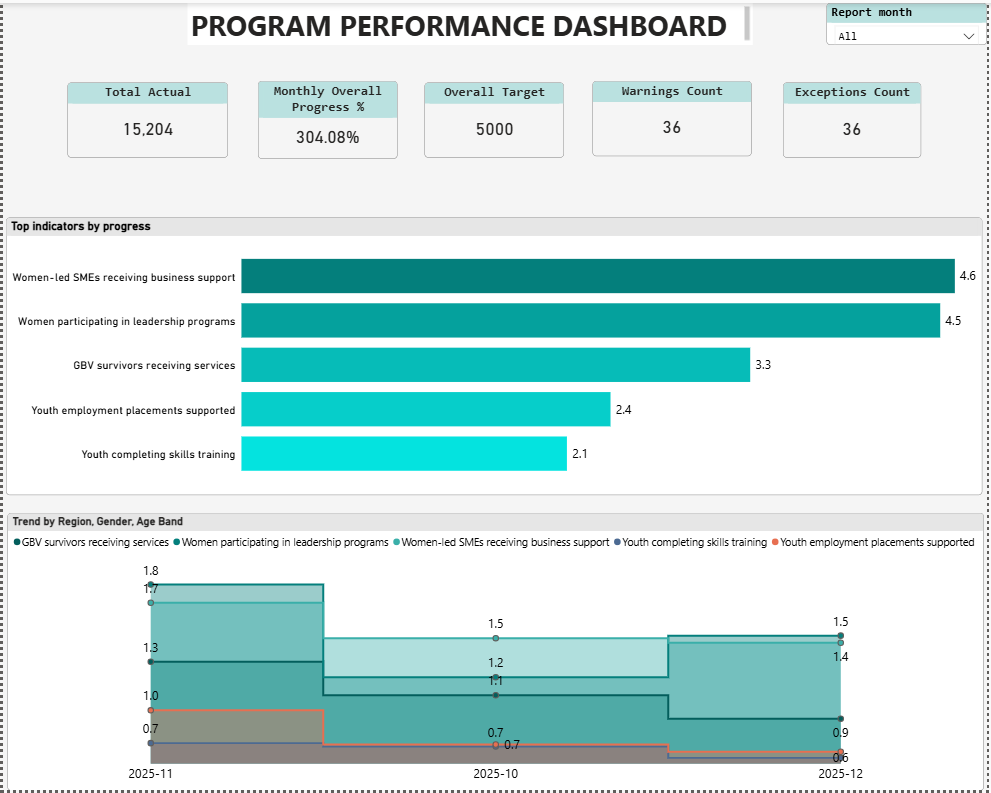

The dashboard page shown, as its layout file describes it:
{"tool":"powerbi","page":{"name":"Executive Overview","canvas":[1500,1200],"ordinal":0},"visuals":[{"type":"card","title":"Total Actual","fields":{"Values":["DimMonth.Total Actual"]},"box":[99.1,122,244.7,114.4],"z":0},{"type":"card","title":"Monthly Overall Progress %","fields":{"Values":["DimMonth.Monthly Overall Progress %"]},"box":[389.6,119.7,212.7,118.9],"z":1000},{"type":"slicer","title":"Report month","fields":{"Values":["DimMonth.ReportMonthDate"]},"box":[1255.7,0,244.7,64],"z":2000},{"type":"card","title":"Exceptions Count","fields":{"Values":["DimMonth.Exceptions Count"]},"box":[1190.1,122,210.4,114.4],"z":4000},{"type":"card","title":"Overall Target","fields":{"Values":["DimMonth.Overall Target"]},"box":[643.5,122,212.7,114.4],"z":5000},{"type":"card","title":"Warnings Count","fields":{"Values":["DimMonth.Warnings Count"]},"box":[899.6,119.7,242.4,114.4],"z":6000},{"type":"clusteredBarChart","title":"Top indicators by progress","fields":{"Category":["vw_indicator_trend_national.indicator_name"],"Y":["Sum(vw_indicator_trend_national.progress_to_target)"]},"box":[4.6,327.1,1489,423.1],"z":7000},{"type":"lineChart","title":"Trend by Region, Gender, Age Band","fields":{"Y":["Sum(vw_indicator_trend_national.progress_to_target)"],"Series":["vw_indicator_trend_national.indicator_name"],"Category":["vw_indicator_trend_national.report_month"]},"box":[6.9,776.9,1489,423.1],"z":8000},{"type":"textbox","box":[281.3,0,862.3,64],"z":8001}]}

Visuals, with their boxes in screenshot pixels (x1, y1, x2, y2), scaled from the page's 1500x1200 canvas onto the 991x793 screenshot:
"Total Actual" card: (left=65, top=81, right=227, bottom=156)
"Monthly Overall Progress %" card: (left=257, top=79, right=398, bottom=158)
"Report month" slicer: (left=830, top=0, right=990, bottom=42)
"Exceptions Count" card: (left=786, top=81, right=925, bottom=156)
"Overall Target" card: (left=425, top=81, right=566, bottom=156)
"Warnings Count" card: (left=594, top=79, right=754, bottom=155)
"Top indicators by progress" clusteredBarChart: (left=3, top=216, right=987, bottom=496)
"Trend by Region, Gender, Age Band" lineChart: (left=5, top=513, right=988, bottom=792)
textbox: (left=186, top=0, right=756, bottom=42)
